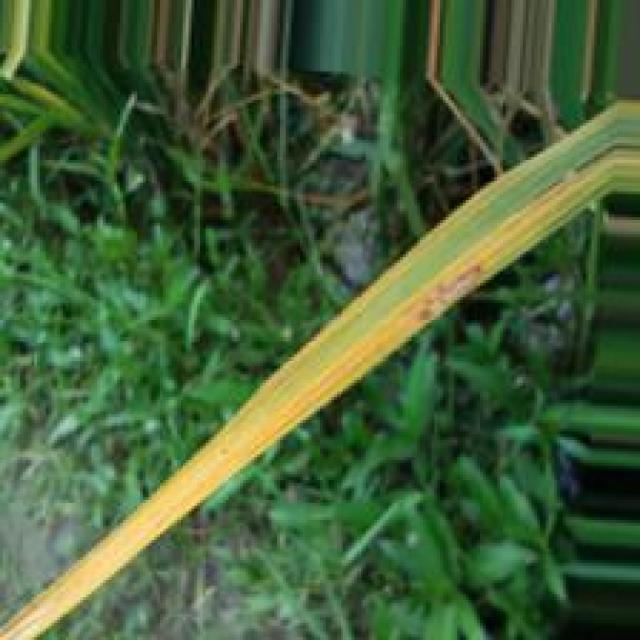Leaf_Blast: (386, 249, 513, 351)
